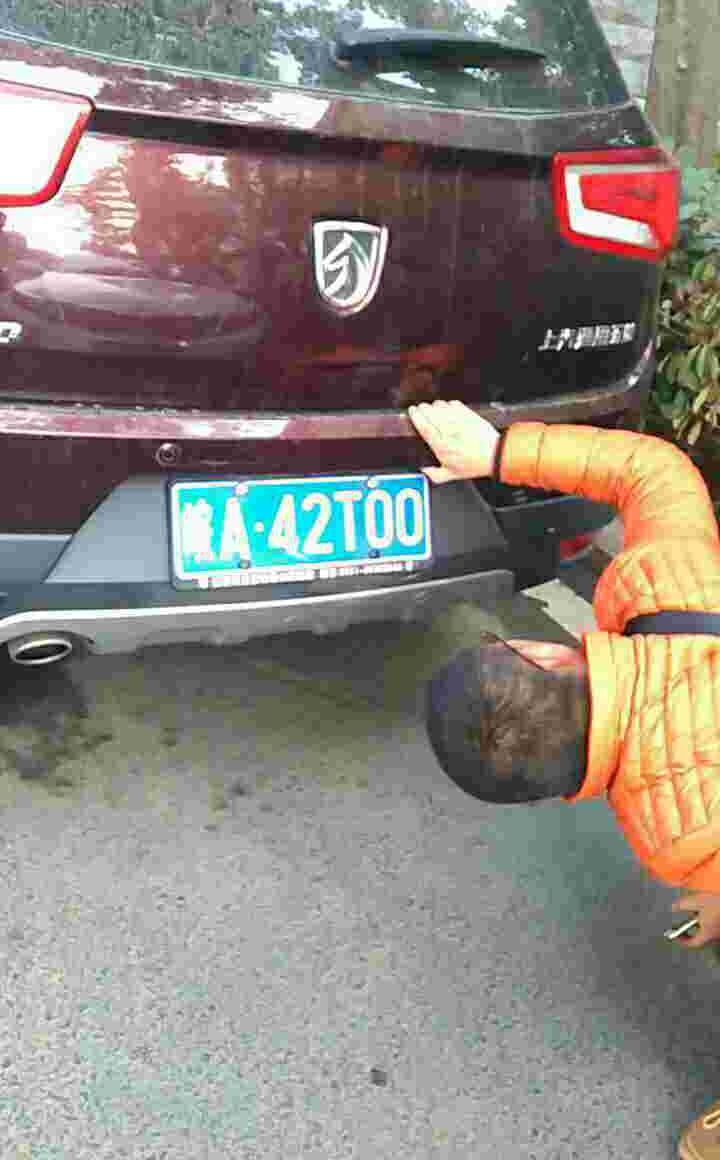license_plate: (183, 476, 441, 571)
